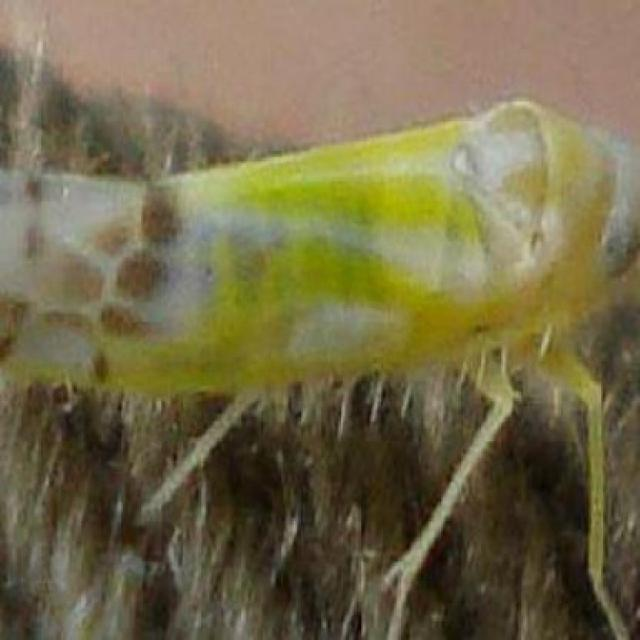green-leafhopper: (0, 101, 640, 397)
